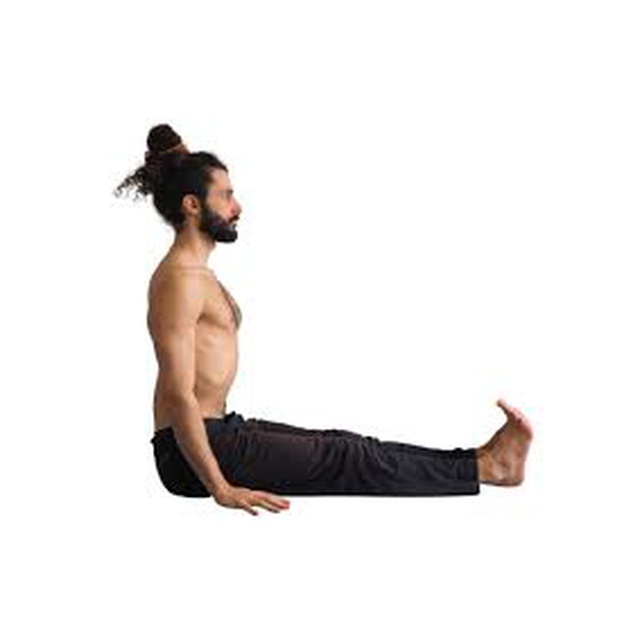Staff_Pose: (114, 123, 534, 519)
